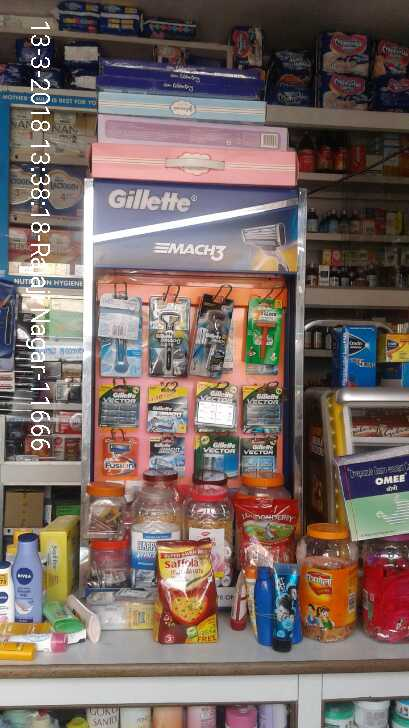beauty: (148, 301, 189, 370), (194, 306, 225, 376), (148, 382, 189, 434), (106, 381, 144, 426), (194, 390, 235, 428), (193, 440, 233, 478), (241, 441, 275, 476), (150, 437, 185, 470), (244, 395, 280, 427)
